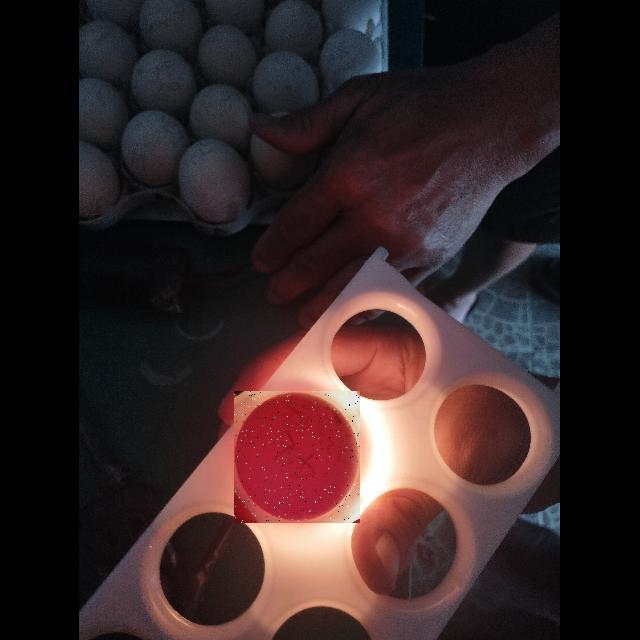A - Good: (234, 391, 360, 523)
